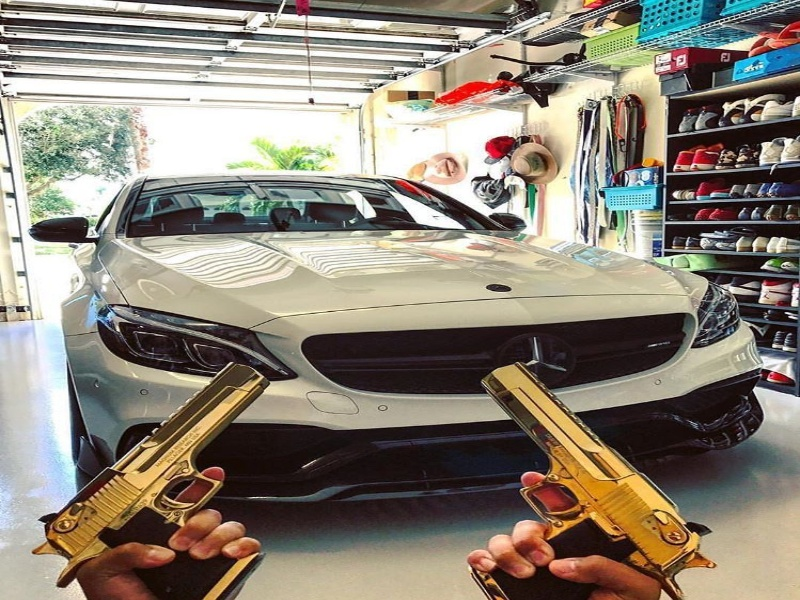car: (27, 171, 765, 505)
weapon: (469, 361, 719, 600), (33, 363, 272, 600)
